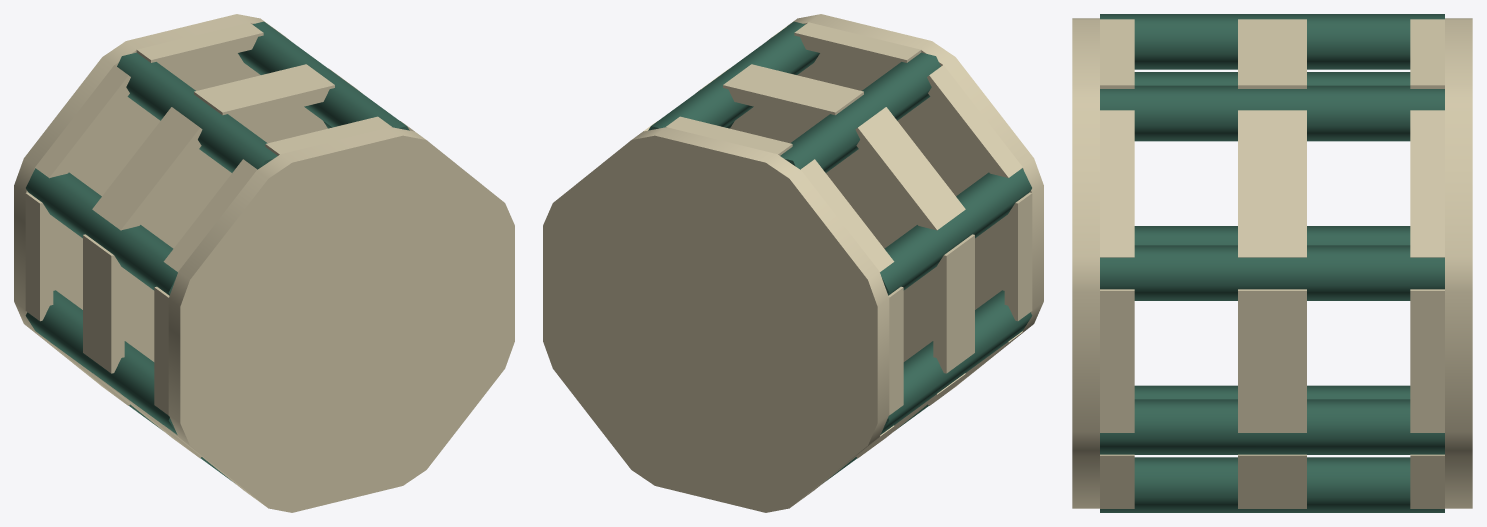
Rendered from h80_housing.obj.
3 renders of one model, left to right at view 1: azimuth 30°, elevation 25°; view 2: azimuth 150°, elevation 25°; view 3: azimuth 270°, elevation 25°, orthographic. The views are drawn at different scales.
Visible parts, largest first — view 1: h80_housing; view 2: h80_housing; view 3: h80_housing.
Boxes of the visible parts, left/top/right/bottom form: h80_housing: left=14, top=14, right=514, bottom=512; h80_housing: left=543, top=14, right=1043, bottom=512; h80_housing: left=1072, top=14, right=1472, bottom=512.
Bounding box in the file's own units: 5.04 × 5.04 × 4.33.
